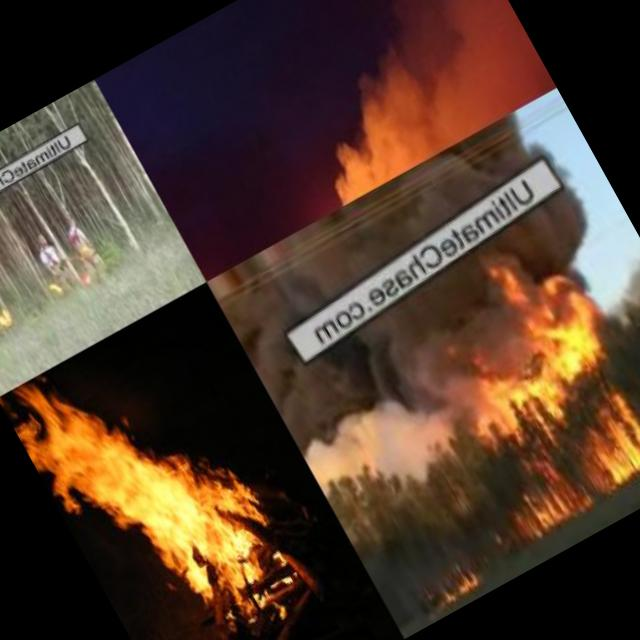fire: (0, 311, 316, 640), (431, 264, 640, 544), (406, 542, 492, 620), (44, 276, 66, 299), (0, 304, 16, 330)
smoke: (243, 0, 557, 202), (263, 294, 501, 522)
